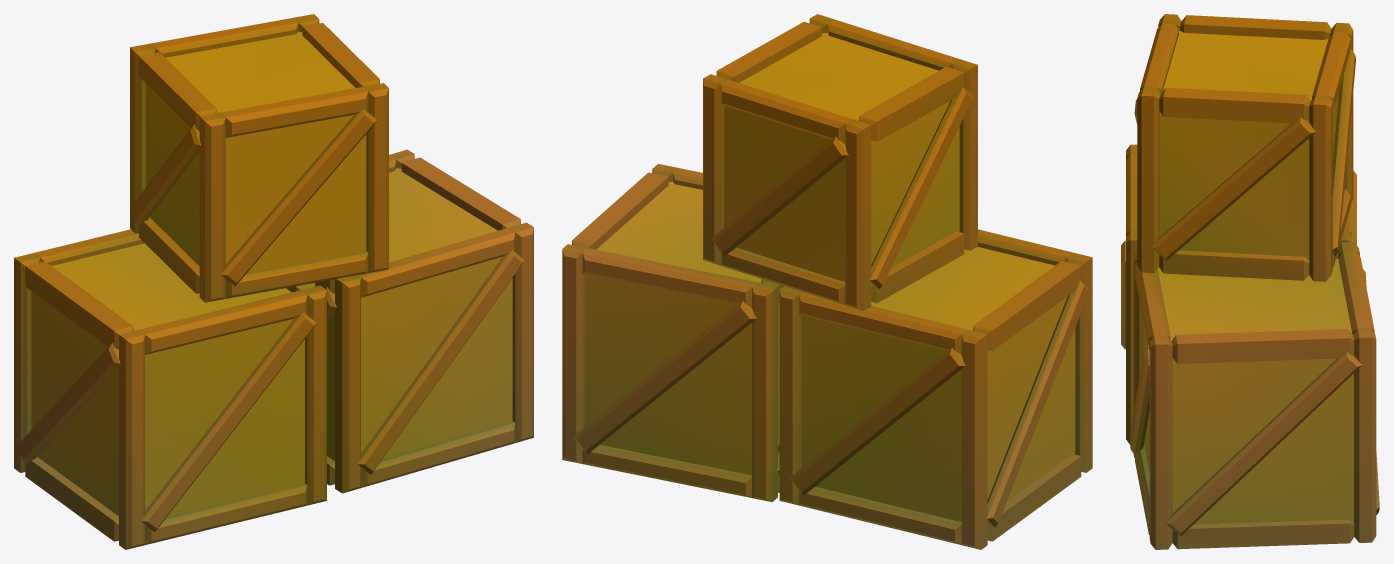
Rendered from Prop_CrateStack.fbx.
The picture shows the model from 3 angles, left to right: view 1: azimuth 30°, elevation 25°; view 2: azimuth 150°, elevation 25°; view 3: azimuth 270°, elevation 25°; orthographic projection. The views are drawn at different scales.
Parts seen in each view (by area): view 1: Prop_CrateStack; view 2: Prop_CrateStack; view 3: Prop_CrateStack.
Part boxes in pixels (box(x1,y1,x2,y2)): Prop_CrateStack: box(14, 14, 533, 549); Prop_CrateStack: box(562, 14, 1092, 549); Prop_CrateStack: box(1121, 14, 1379, 549).
Bounding box in the file's own units: 1.53 × 1.34 × 0.8226.
